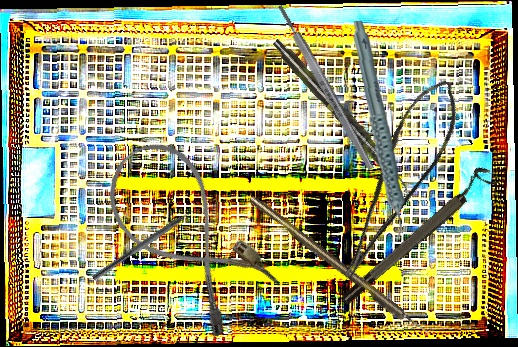Cannula: (88, 127, 286, 343)
Chopper: (91, 202, 206, 288)
Fixation Ring: (333, 162, 500, 308)
Handpiece: (268, 35, 415, 195), (344, 21, 411, 242)
Hook Surgical: (247, 193, 434, 342)
Micro Scissor: (309, 71, 479, 284)
Scalpel Handle: (275, 3, 376, 172)
